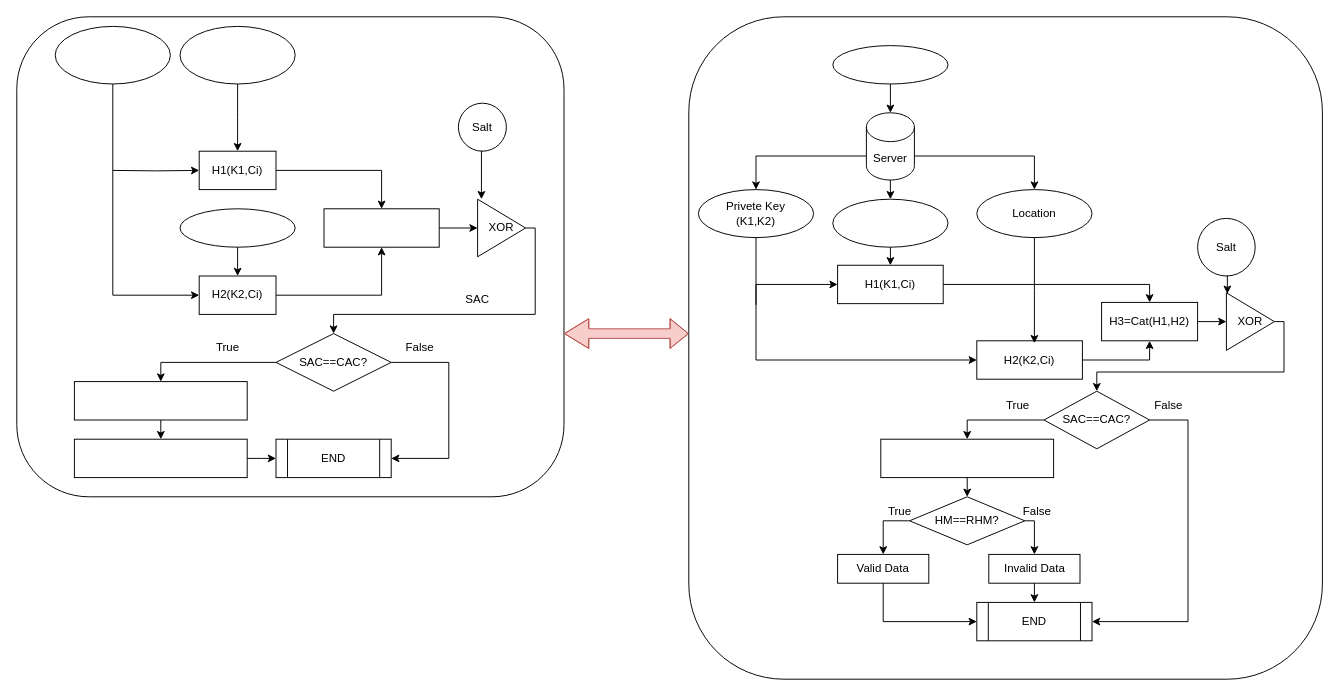
The diagram is 1339 pixels wide and 696 high, and some of its shapes have lost their labels. The shapes that lost their labels are listed below. From the top down, each one's centre as x and y in pixels, then its label:
the point at 112,54: Private key (K1, K2)
the point at 237,54: Counter (C1)
the point at 890,64: Sensor_ID
the point at 237,227: Get_location
the point at 381,227: H3= Cat(H1,H2)
the point at 890,222: Counter (Ci)
the point at 160,400: HM=H1(K1,Sensory Data)
the point at 160,458: Send (HM+Sensory Data)
the point at 967,458: RHM=H1(K1,Sensory Data)
